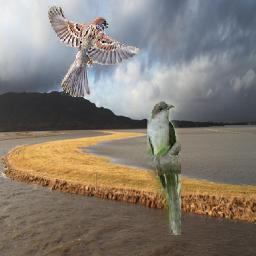Cuckoo: (147, 101, 181, 235)
Sparrow: (49, 5, 144, 97)
